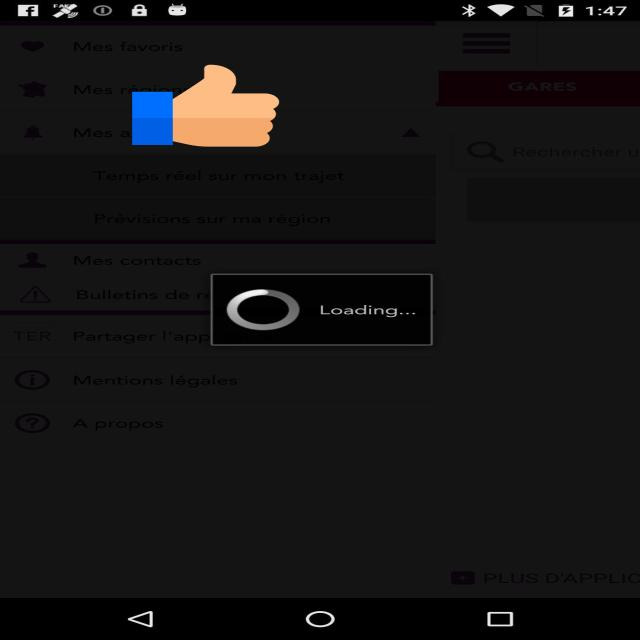privacy zuckering: (132, 63, 279, 148)
